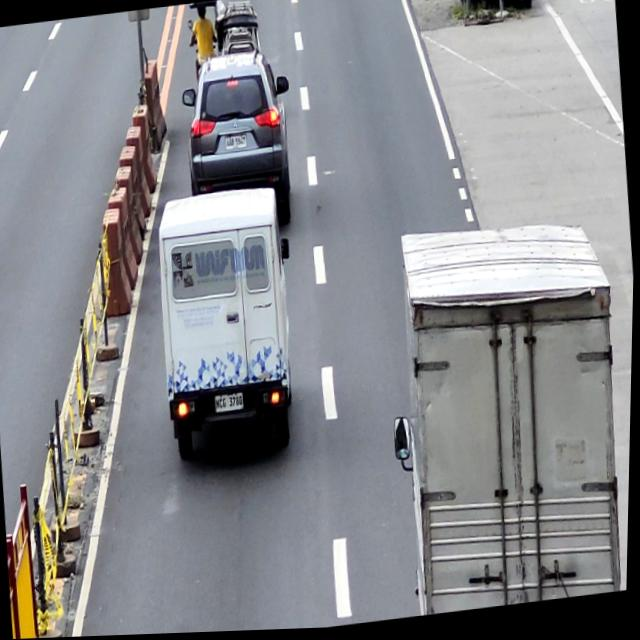Car: (148, 185, 309, 464), (176, 47, 303, 241)
License-Plate: (215, 394, 246, 415), (225, 135, 248, 152)
Tricycle: (183, 0, 265, 65)
Truck: (374, 211, 636, 621)
